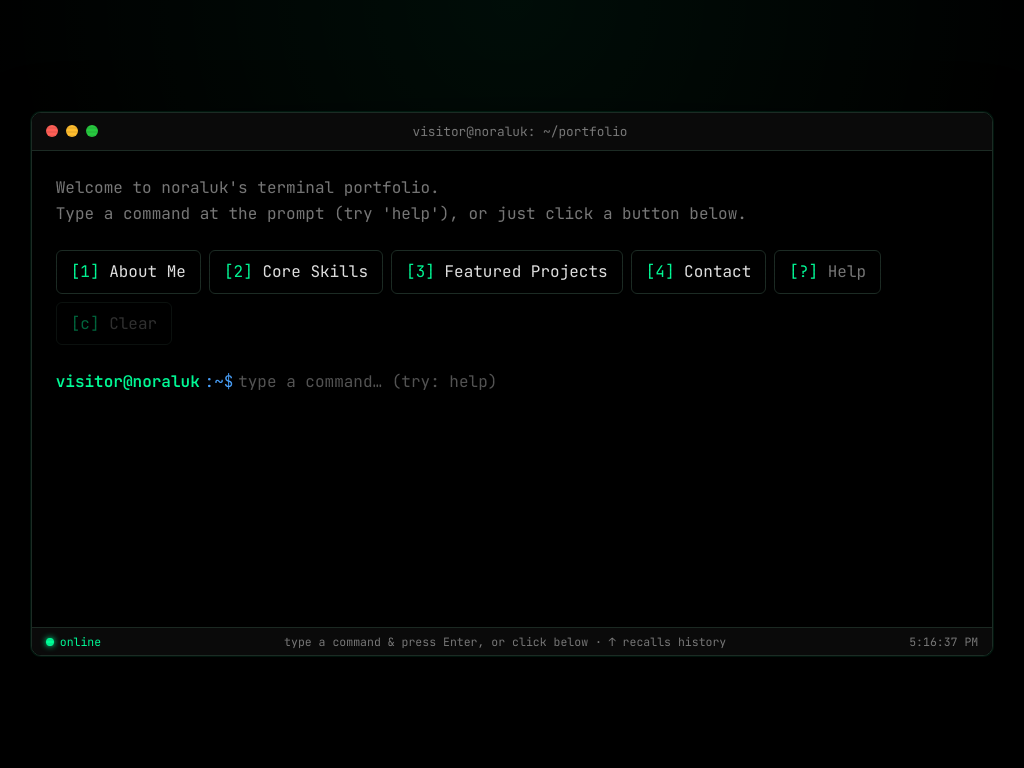
Scenario: Terminal (reduced motion) › opens the interactive project browser
The width and height of the screenshot is (1024, 768).
Click the button "[3] Featured Projects": (507, 272) [391,250,623,294]
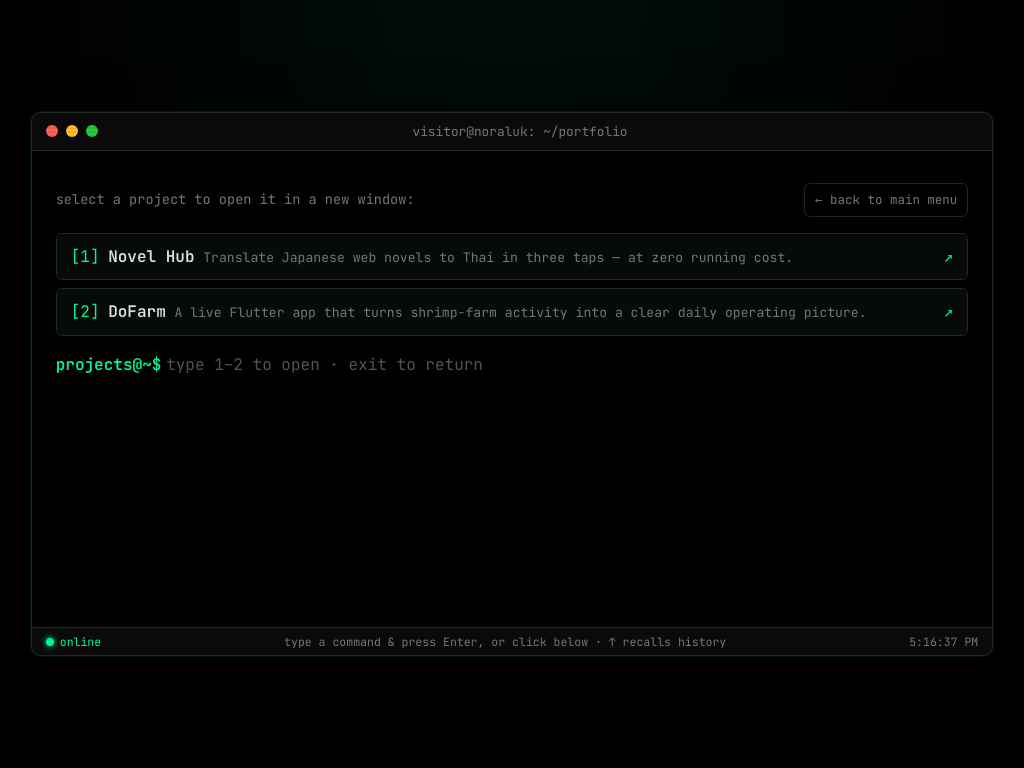
Result: the text "select a project to open it in a new window:" is shown at [56,189,415,211]
Result: the button "About Me" is gone
